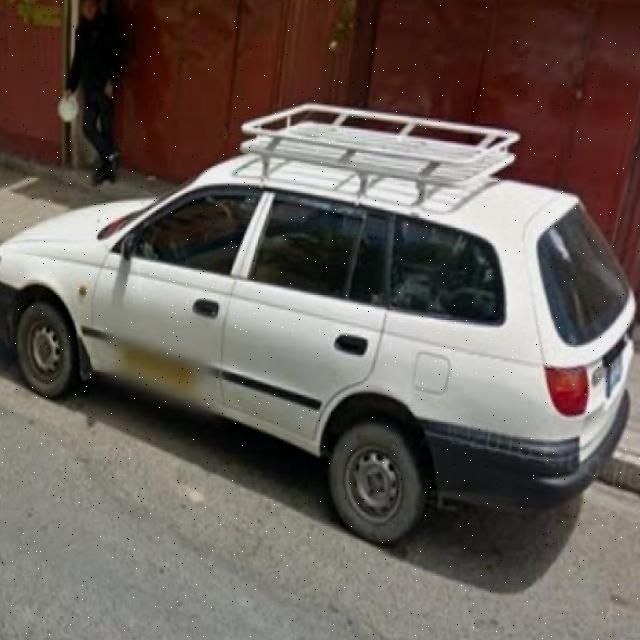car: (0, 95, 628, 558)
